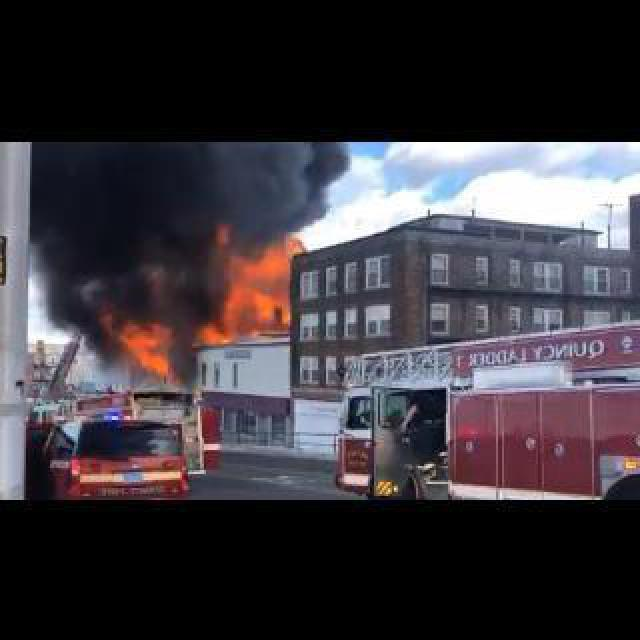Fire: (92, 218, 312, 392)
Smoke: (26, 146, 320, 332)
